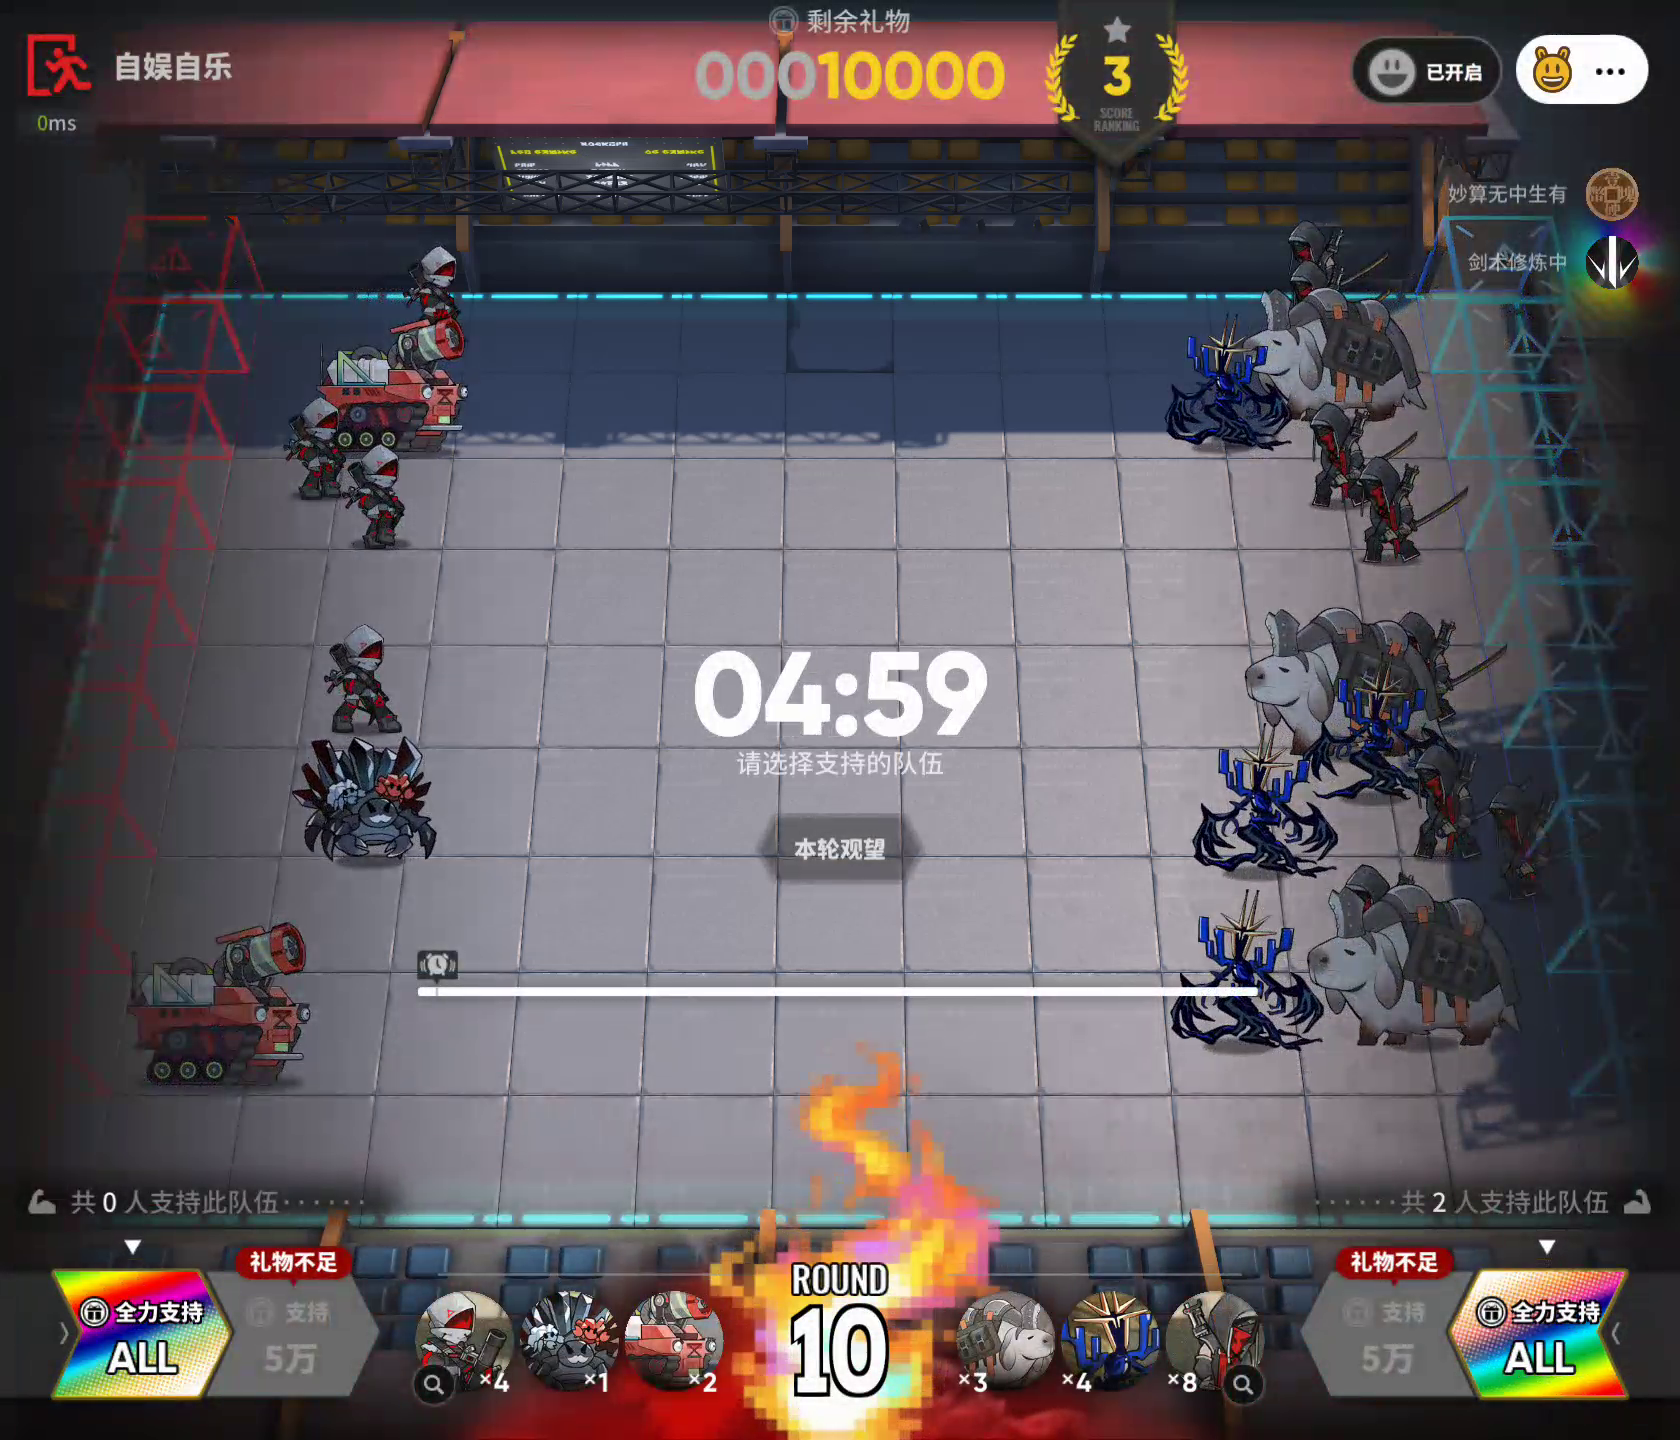“火苗与软钢”: (1403, 739, 1539, 869), (1291, 399, 1436, 511), (1386, 603, 1521, 711), (1341, 454, 1474, 564), (1486, 776, 1601, 901), (1170, 1286, 1267, 1399), (1287, 214, 1397, 281), (1334, 856, 1414, 931), (1284, 254, 1336, 307)
安逸的驮兽: (1306, 859, 1524, 1070), (1247, 570, 1453, 763), (1249, 287, 1436, 434), (957, 1290, 1061, 1394)
狂躁珊瑚: (1161, 881, 1324, 1064), (1306, 639, 1446, 819), (1187, 724, 1339, 877), (1166, 310, 1309, 461), (1061, 1286, 1169, 1399)
蟹蟹爷爷: (280, 721, 447, 871), (521, 1289, 626, 1399)
超级洗地机: (121, 911, 321, 1094), (319, 324, 476, 454), (626, 1281, 730, 1394)
迫击炮弹投手: (414, 1291, 520, 1394), (319, 619, 409, 736), (397, 239, 496, 339), (279, 381, 349, 501), (349, 440, 421, 554)
